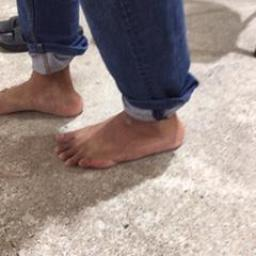Lateral View -Left Foot-: (51, 109, 192, 174)
